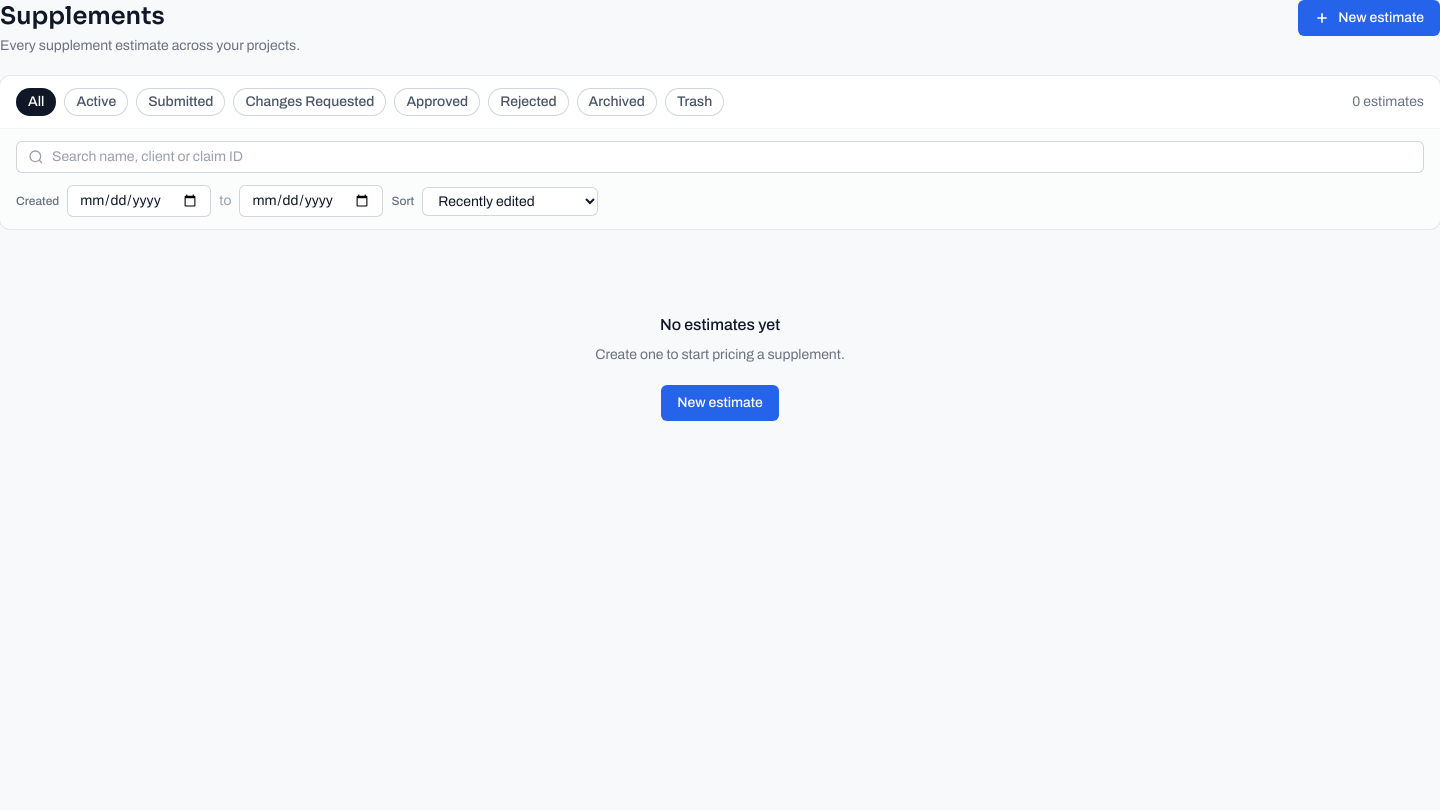
Scenario: EstimatesListPage › creating › asks for a name instead of creating an unnamed estimate immediately
Click the button "New estimate" in the row of "Supplements". click: (1369, 18)
box: [1298,0,1439,36]
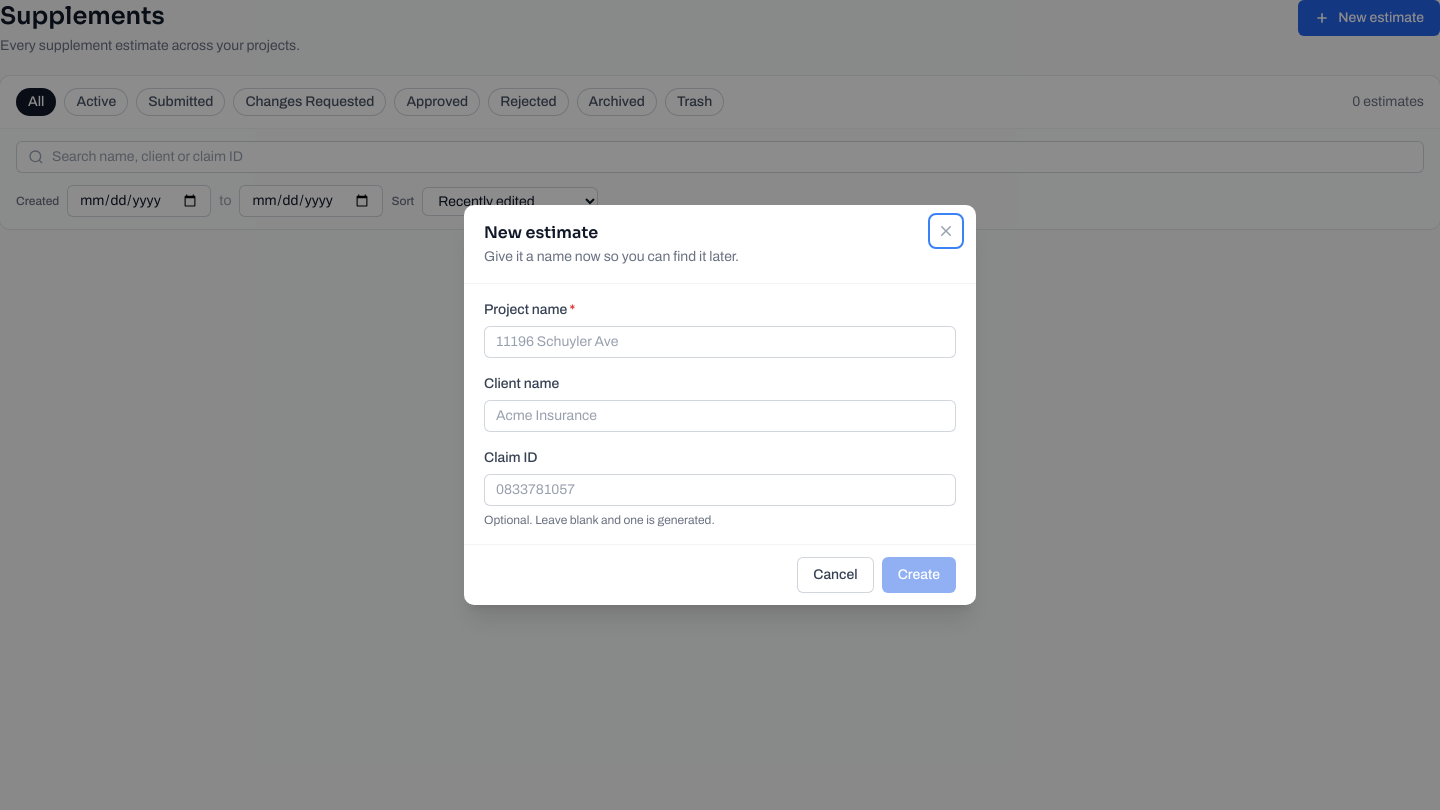
Result: the dialog is shown at [464,205,976,605]
